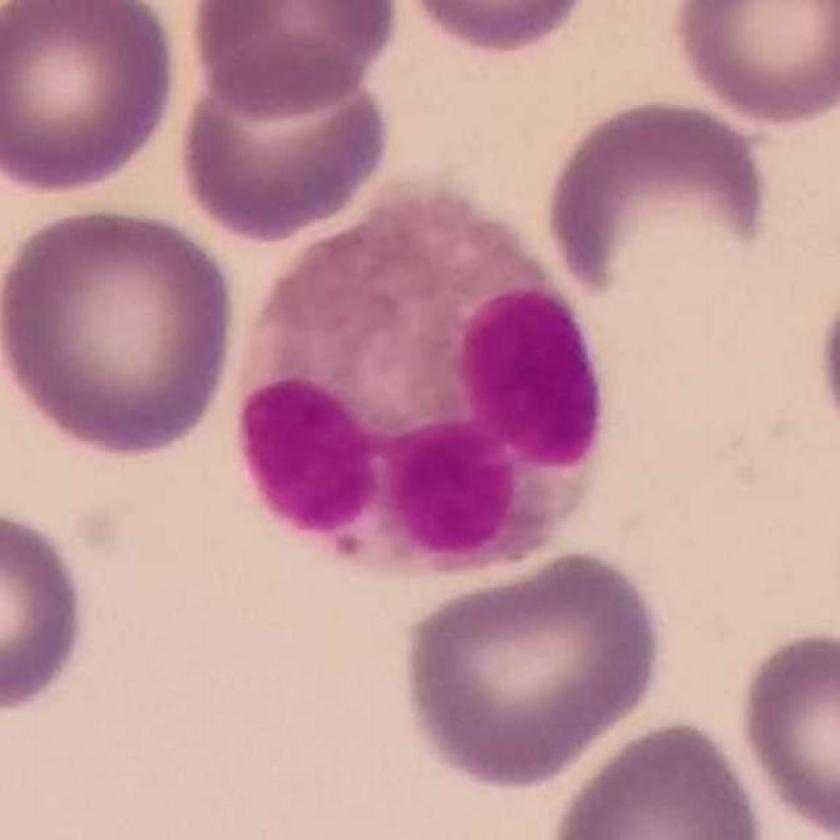eosinophil: (239, 196, 609, 579)
